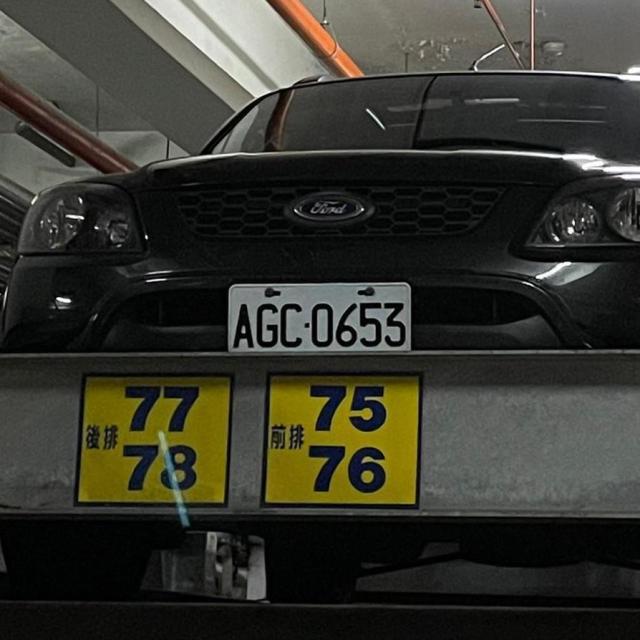W: (214, 263, 422, 369)
